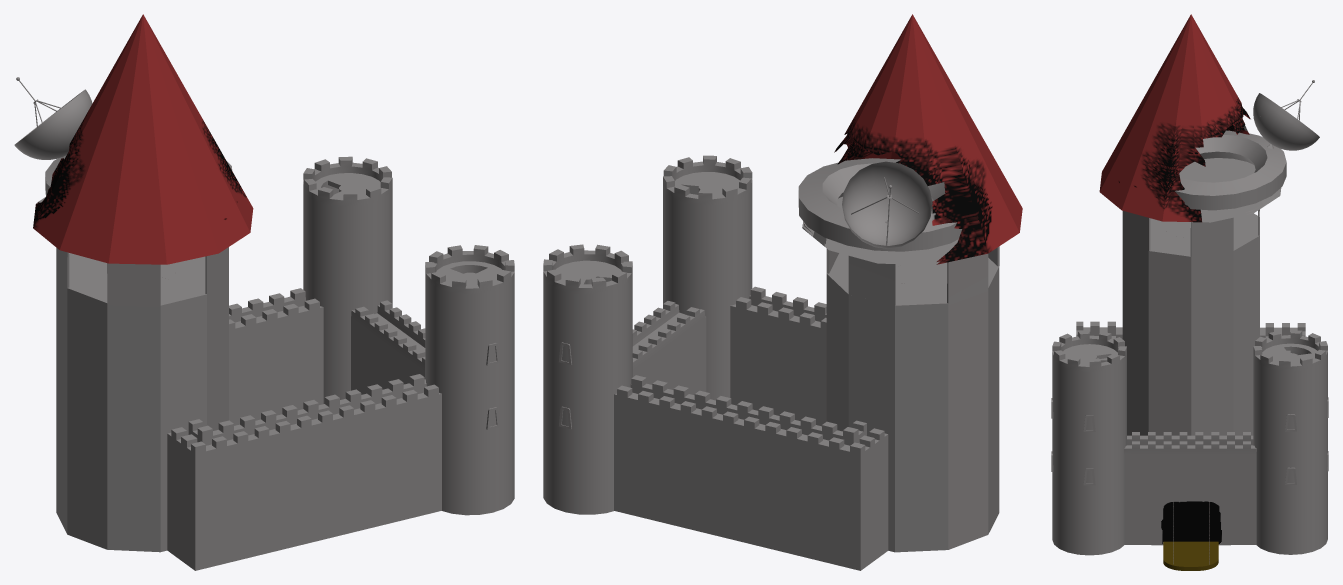
File: Castlev3.fbx
3 renders of one model, left to right at view 1: azimuth 30°, elevation 25°; view 2: azimuth 150°, elevation 25°; view 3: azimuth 270°, elevation 25°, orthographic. The views are drawn at different scales.
Visible parts, largest first — view 1: Gate_and_chains1; view 2: Gate_and_chains1; view 3: Gate_and_chains1.
Part boxes in pixels (bbox=[...]): Gate_and_chains1: bbox=[14, 14, 514, 570]; Gate_and_chains1: bbox=[543, 14, 1022, 570]; Gate_and_chains1: bbox=[1051, 14, 1328, 570].
Size of the model in its own units: 35.03 by 38.51 by 23.14.
Materials: 1 (1 with a texture image).
